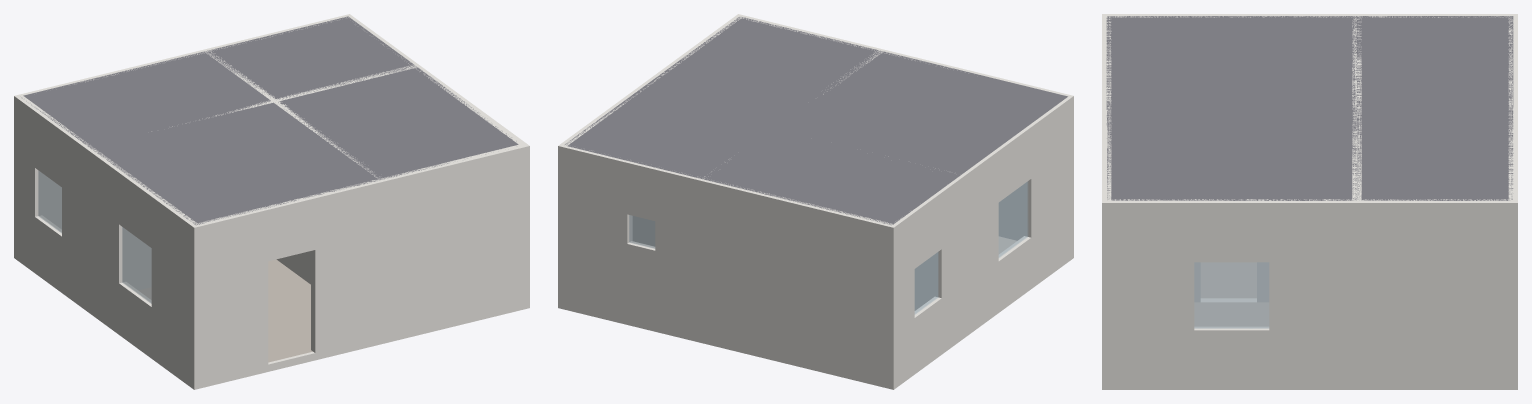
The model's file is 1bhk.glb.
3 views of the same model, side by side, from view 1: azimuth 30°, elevation 25°; view 2: azimuth 150°, elevation 25°; view 3: azimuth 270°, elevation 25° (orthographic). The views are drawn at different scales.
Visible parts, largest first — view 1: f0_wall_h_0.0_0.0, f0_wall_v_0.0_0.0, f0_roof_living, f0_roof_bed, f0_roof_kitchen, f0_roof_bath, f0_floor_living, f0_wall_h_6.5_0.0, f0_wall_h_4.0_0.0, f0_glass.001, f0_wall_v_4.0_0.0, f0_glass.002 (+1 smaller); view 2: f0_wall_h_6.5_0.0, f0_wall_v_0.0_0.0, f0_roof_living, f0_roof_bed, f0_roof_kitchen, f0_roof_bath, f0_wall_h_0.0_0.0, f0_wall_h_4.0_0.0, f0_glass.001, f0_wall_v_7.0_0.0, f0_glass.002, f0_glass; view 3: f0_wall_v_7.0_0.0, f0_roof_living, f0_roof_bed, f0_roof_kitchen, f0_roof_bath, f0_glass.003, f0_wall_h_0.0_0.0, f0_wall_h_6.5_0.0, f0_wall_h_4.0_0.0, f0_floor_living, f0_floor_bed, f0_wall_v_0.0_0.0 (+1 smaller).
Boxes of the visible parts, bbox=[...] form: f0_wall_h_0.0_0.0: bbox=[190, 143, 529, 389]; f0_wall_v_0.0_0.0: bbox=[16, 95, 196, 386]; f0_roof_living: bbox=[87, 102, 382, 225]; f0_roof_bed: bbox=[278, 66, 518, 179]; f0_roof_kitchen: bbox=[21, 50, 270, 145]; f0_roof_bath: bbox=[208, 16, 414, 99]; f0_floor_living: bbox=[138, 259, 312, 362]; f0_wall_h_6.5_0.0: bbox=[14, 14, 353, 260]; f0_wall_h_4.0_0.0: bbox=[81, 63, 420, 309]; f0_glass.001: bbox=[122, 227, 151, 303]; f0_wall_v_4.0_0.0: bbox=[205, 50, 379, 284]; f0_glass.002: bbox=[38, 170, 61, 233]; f0_wall_h_6.5_0.0: bbox=[558, 143, 897, 389]; f0_wall_v_0.0_0.0: bbox=[894, 96, 1071, 386]; f0_roof_living: bbox=[773, 50, 1067, 175]; f0_roof_bed: bbox=[631, 17, 879, 129]; f0_roof_kitchen: bbox=[705, 130, 959, 225]; f0_roof_bath: bbox=[565, 96, 771, 179]; f0_wall_h_0.0_0.0: bbox=[735, 14, 1073, 258]; f0_wall_h_4.0_0.0: bbox=[626, 93, 965, 337]; f0_glass.001: bbox=[998, 181, 1028, 257]; f0_wall_v_7.0_0.0: bbox=[561, 16, 742, 240]; f0_glass.002: bbox=[914, 252, 938, 314]; f0_glass: bbox=[629, 215, 655, 248]; f0_wall_v_7.0_0.0: bbox=[1106, 199, 1512, 389]; f0_roof_living: bbox=[1106, 16, 1356, 121]; f0_roof_bed: bbox=[1106, 121, 1356, 200]; f0_roof_kitchen: bbox=[1357, 16, 1513, 121]; f0_roof_bath: bbox=[1357, 121, 1513, 200]; f0_glass.003: bbox=[1194, 262, 1269, 328]; f0_wall_h_0.0_0.0: bbox=[1102, 14, 1111, 389]; f0_wall_h_6.5_0.0: bbox=[1508, 14, 1517, 389]; f0_wall_h_4.0_0.0: bbox=[1352, 14, 1361, 389]; f0_floor_living: bbox=[1200, 262, 1256, 298]; f0_floor_bed: bbox=[1194, 302, 1269, 326]; f0_wall_v_0.0_0.0: bbox=[1106, 14, 1513, 17].
Size of the model in its own units: 7.15 by 3.3 by 6.65.
